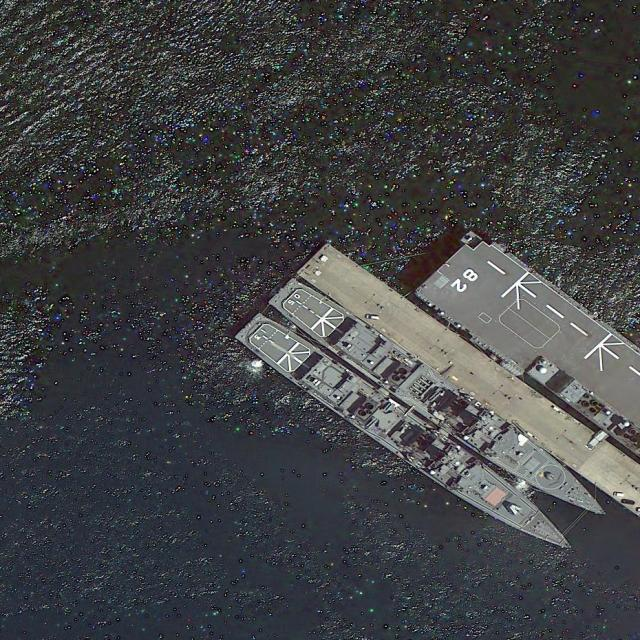Destroyer: (228, 301, 586, 568), (266, 266, 619, 534)
